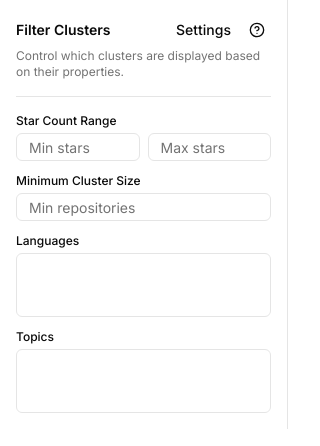
Test case: ClusterSettings › renders a fixed singleton value without an invalid slider range
Click the button "Settings": (204, 30) left=168, top=16, right=239, bottom=44
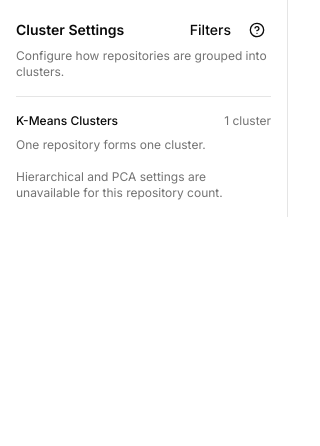
expect the text "One repository forms one cluster." is shown: met, box left=16, top=137, right=206, bottom=152
